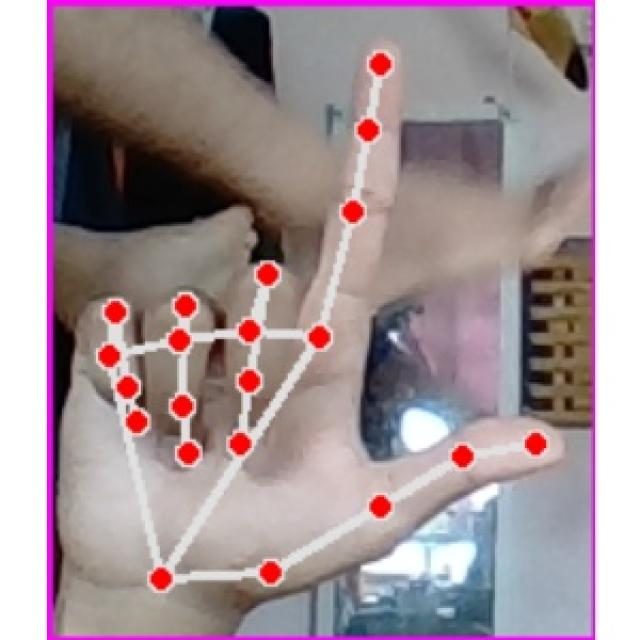L: (59, 22, 581, 600)
